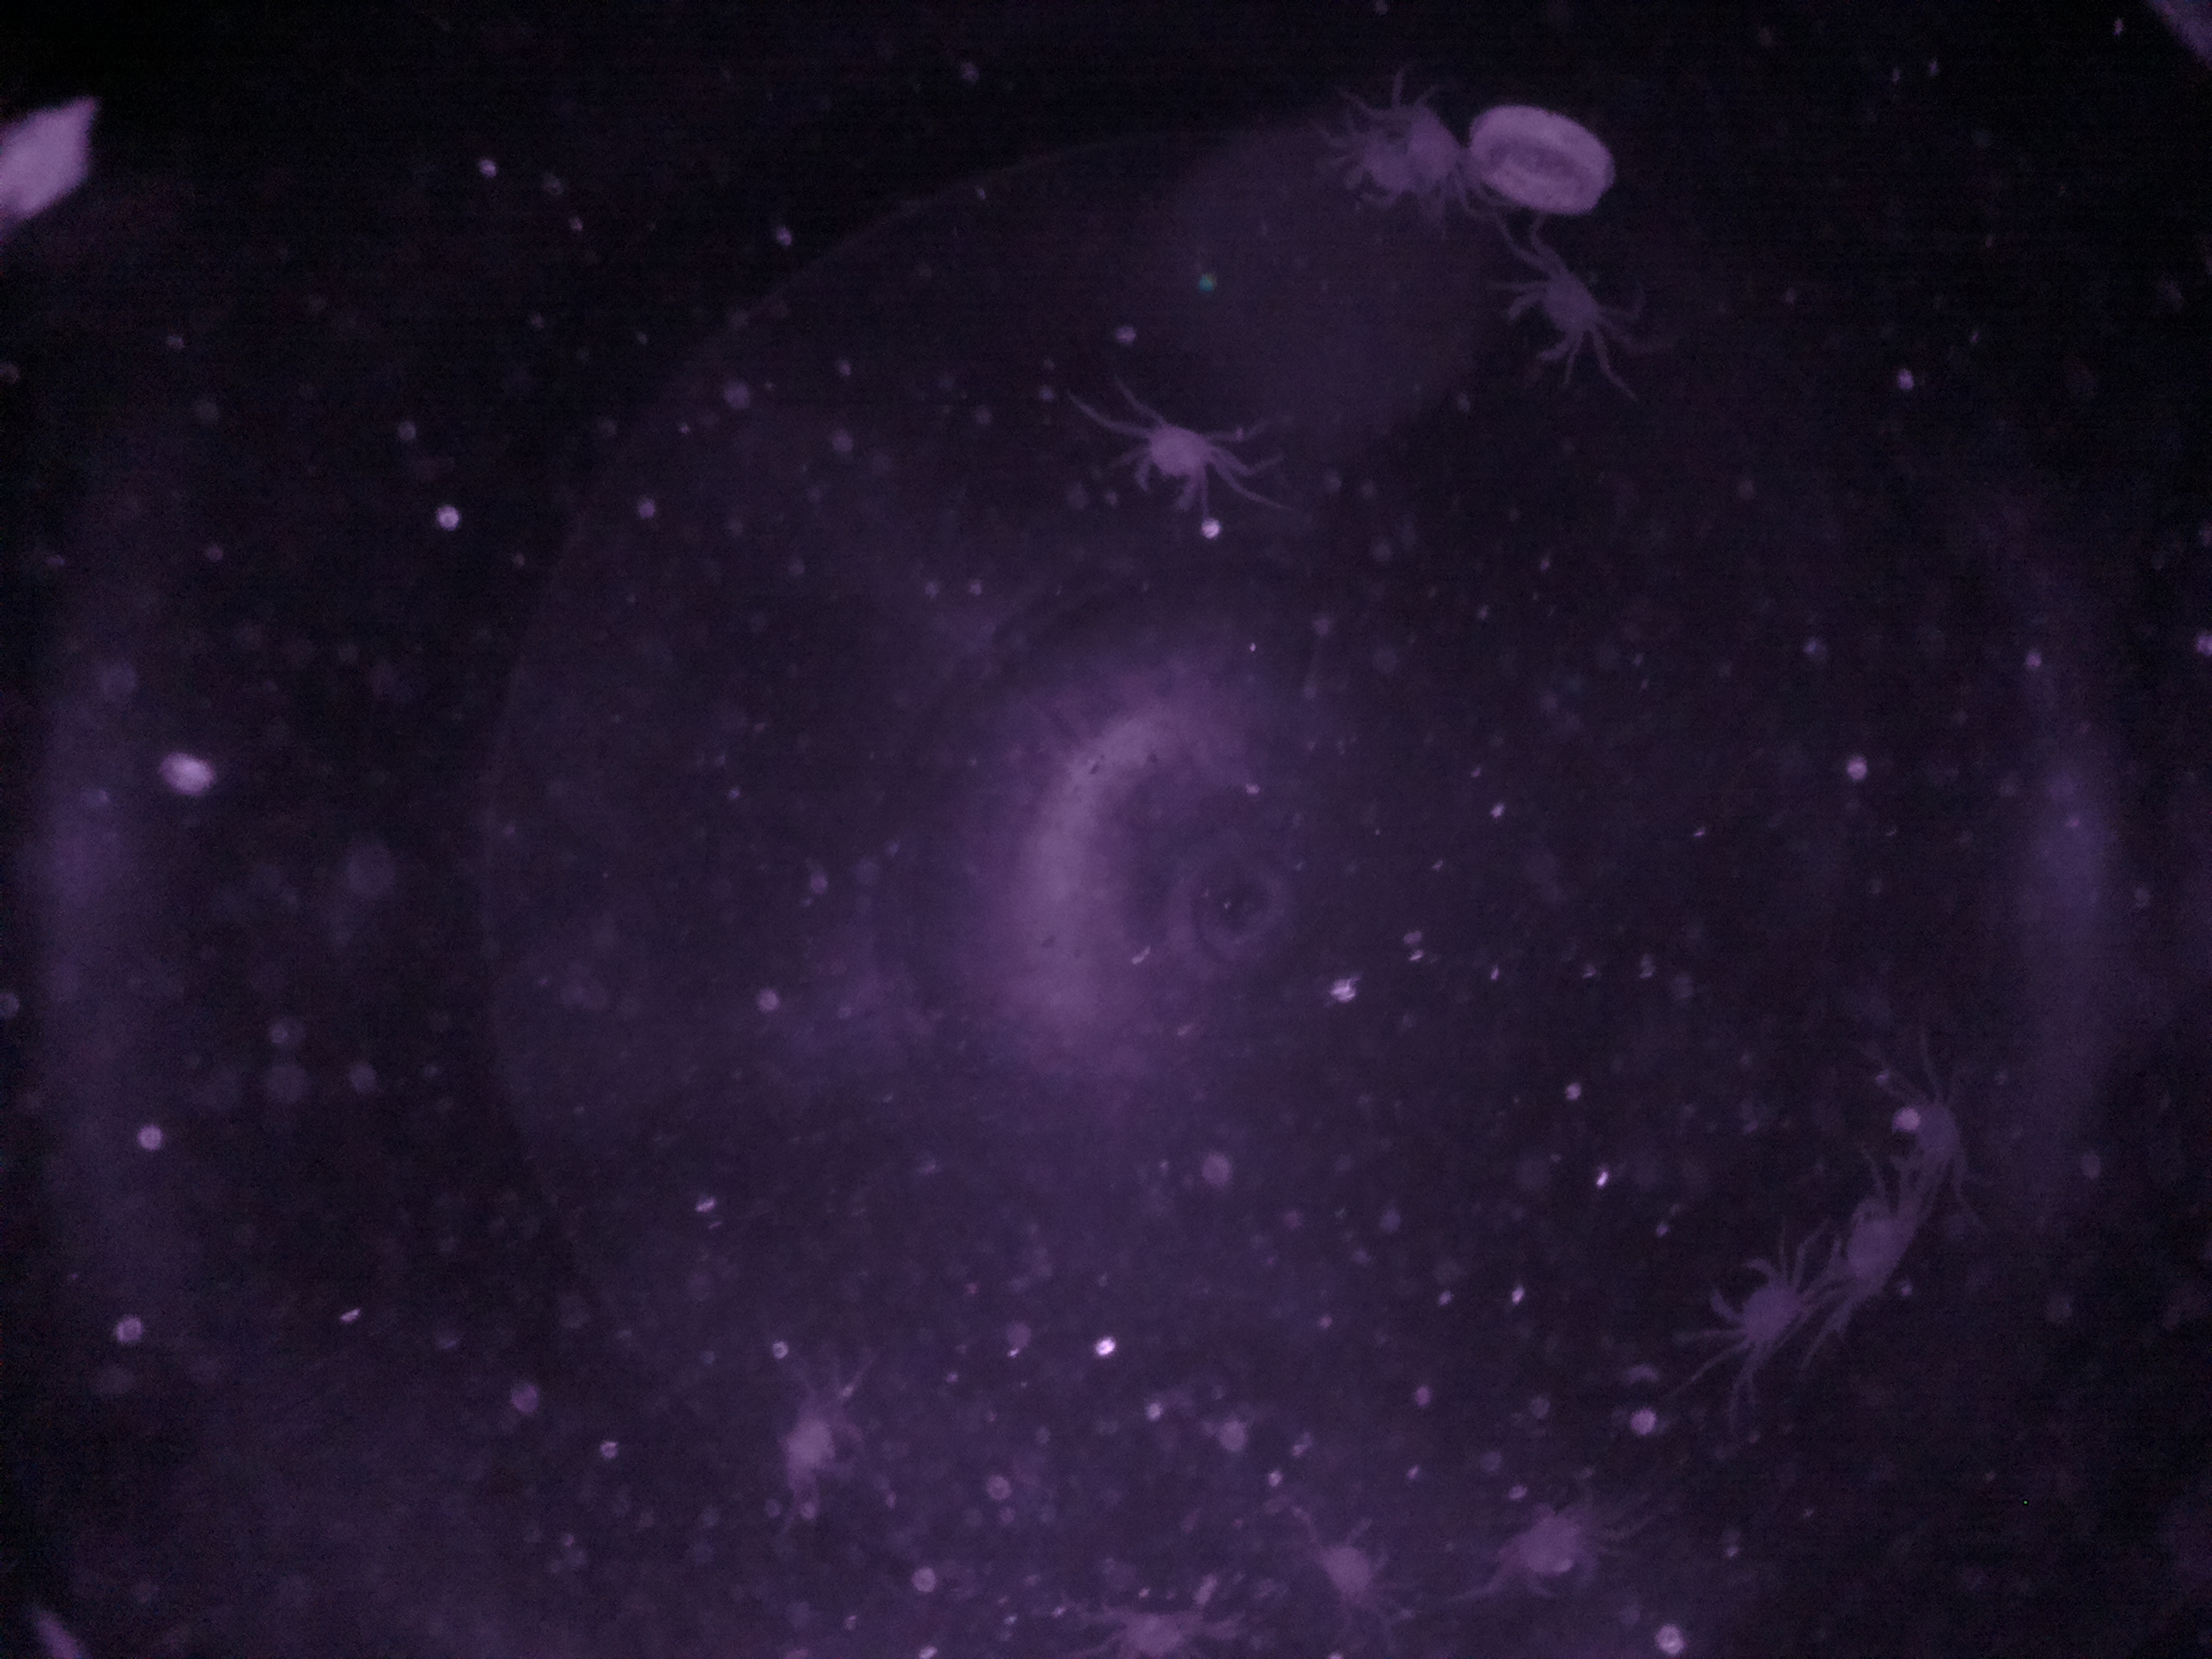Crab: (1817, 1176, 1937, 1326), (1696, 1232, 1820, 1371), (1501, 247, 1620, 387), (1496, 1485, 1608, 1626), (1116, 403, 1230, 526)
